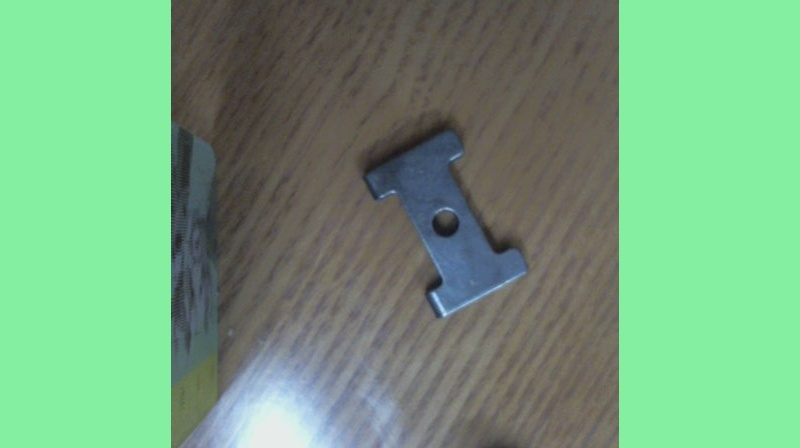O002: (363, 127, 528, 319)
